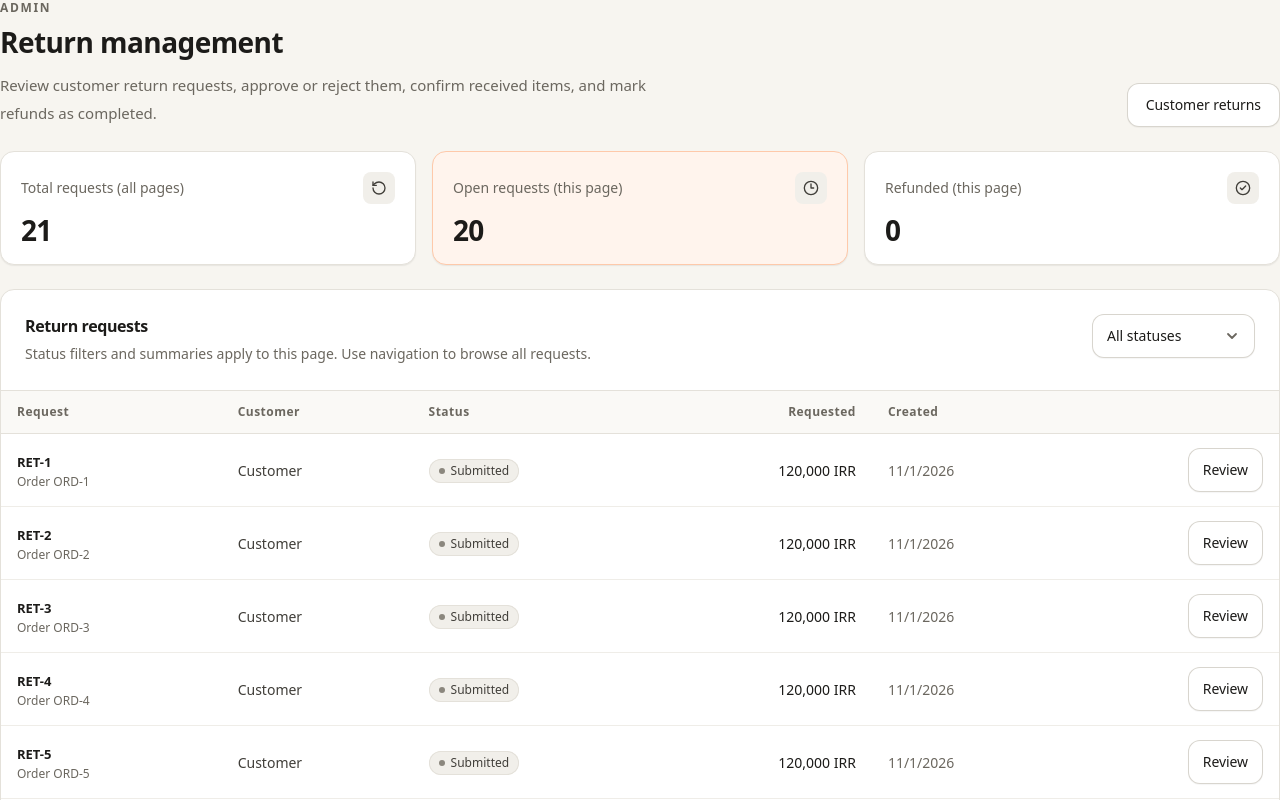
Test: admin-returns return pagination › reaches records beyond 20 and explicitly scopes status filtering to the selected page
Expected: the link "RET-1" is shown, [17, 453, 52, 471]
Expected: the text "21" is shown, [21, 211, 52, 249]
Select "Refunded" in the dropdown named "Status on this page". click: (1174, 336)
box: [1092, 314, 1255, 358]
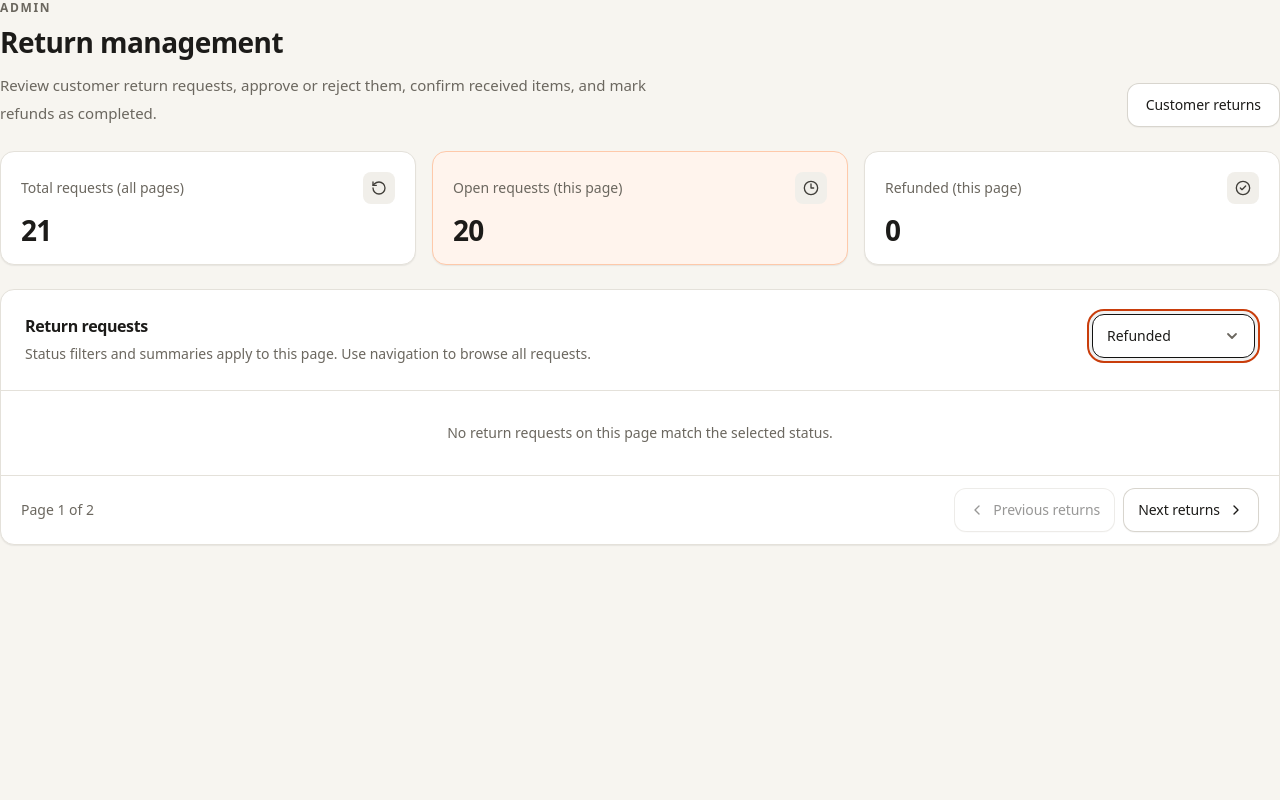
Result: the text "No return requests on this page match the selected status." is shown at [1, 390, 1279, 475]
Click the button "Next returns". click: click(1191, 510)
box: [1123, 488, 1259, 532]
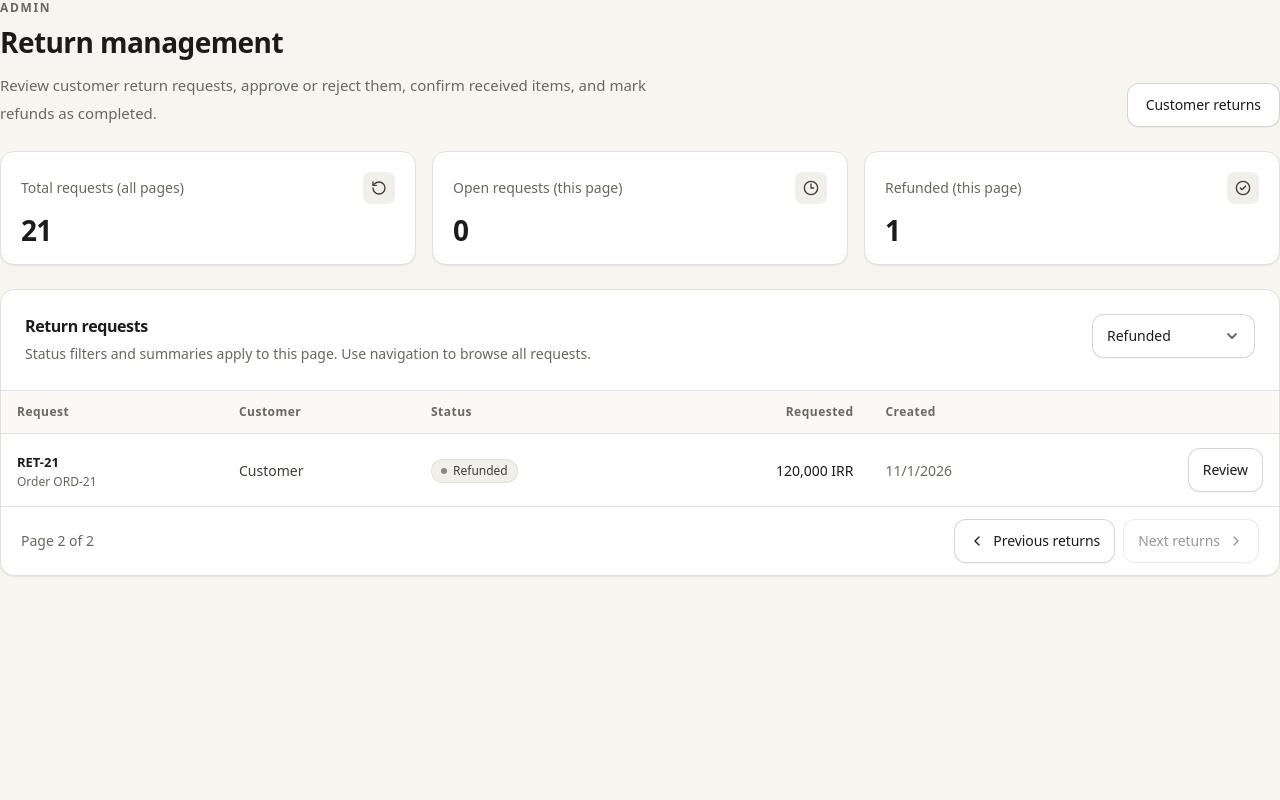
Result: the link "RET-21" is shown at [17, 453, 59, 471]
Result: the text "Page 2 of 2" is shown at [21, 531, 94, 551]
Result: the button "Next returns" is disabled at [1123, 519, 1259, 563]
